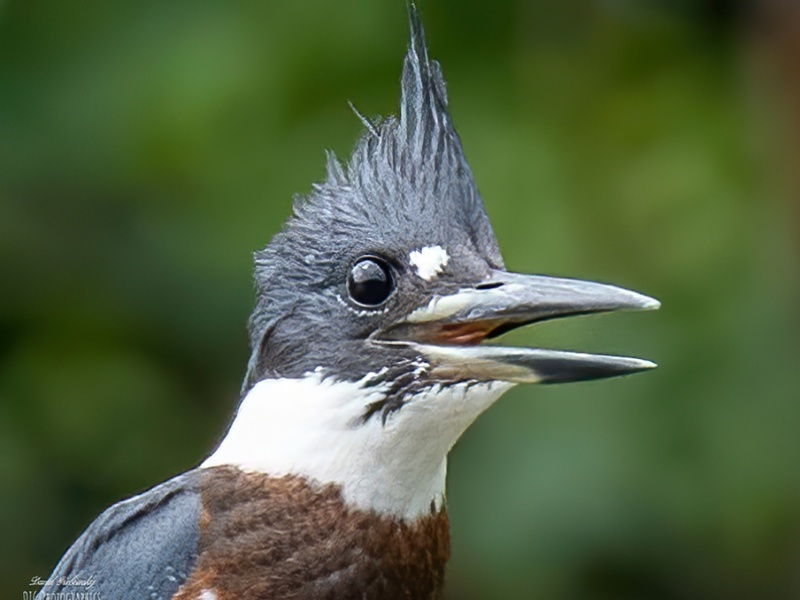kingfisher: (48, 14, 667, 594)
